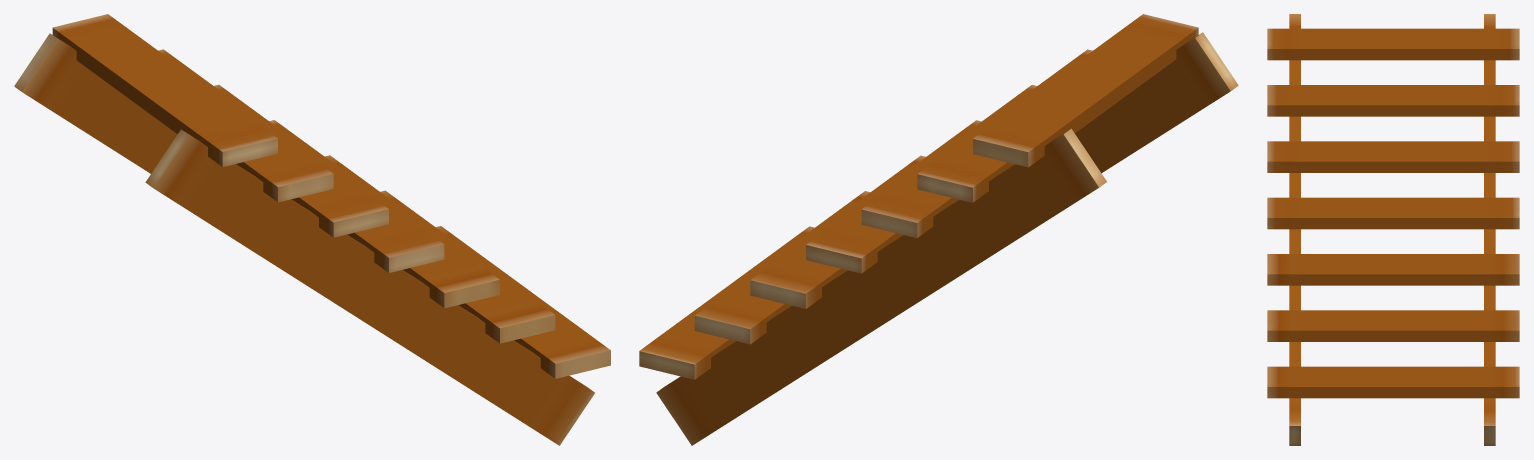
File: kit-ladder-stairs.glb
3 views of the same model, side by side, from view 1: azimuth 30°, elevation 25°; view 2: azimuth 150°, elevation 25°; view 3: azimuth 270°, elevation 25° (orthographic). The views are drawn at different scales.
Visible parts, largest first — view 1: Cube.253; view 2: Cube.253; view 3: Cube.253.
Part boxes in pixels (box(x1,y1,x2,y2)): Cube.253: box(14, 14, 610, 445); Cube.253: box(639, 14, 1238, 445); Cube.253: box(1267, 14, 1519, 445).
Bounding box in the file's own units: 1.64 × 1.42 × 1.09.
1 material, 1 textured.
